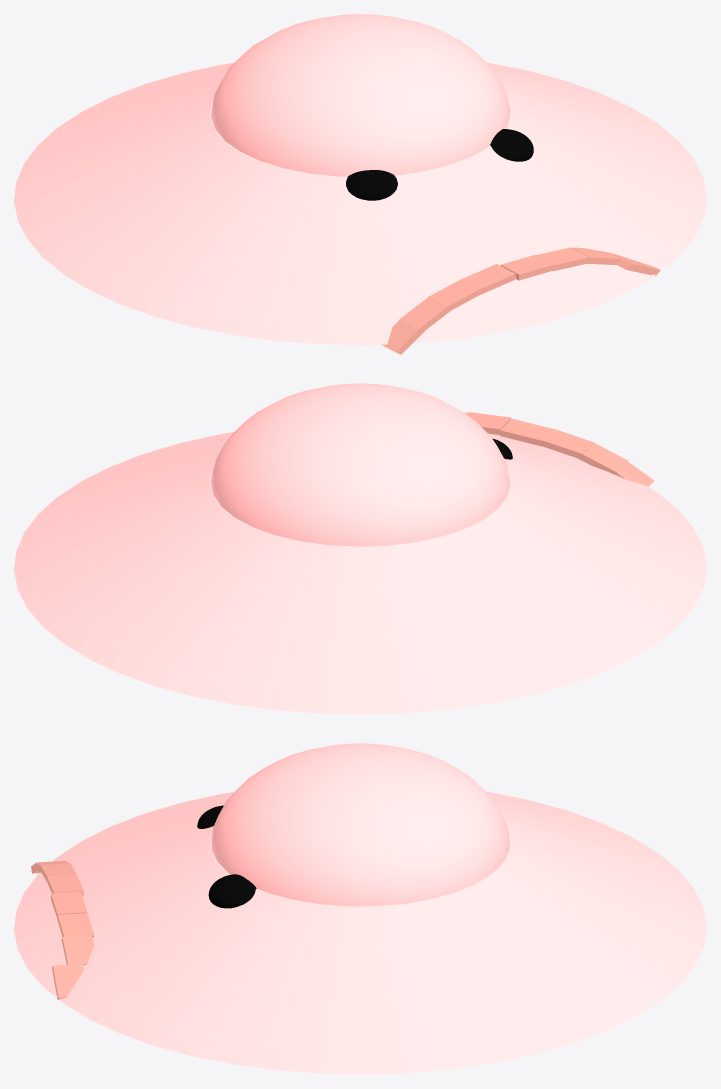
3 renders of one model, top to bottom at view 1: azimuth 30°, elevation 25°; view 2: azimuth 150°, elevation 25°; view 3: azimuth 270°, elevation 25°, orthographic.
Parts seen in each view (by area): view 1: Cylinder, Sphere (×3), Box (×6); view 2: Cylinder, Sphere, Box (×4); view 3: Cylinder, Sphere (×2), Box (×5).
Part boxes in pixels (x1=…): Cylinder: x1=14, y1=62, x2=706, y2=345; Sphere (×3): x1=211, y1=14, x2=533, y2=200; Box (×6): x1=381, y1=247, x2=588, y2=354; Cylinder: x1=14, y1=432, x2=706, y2=714; Sphere: x1=211, y1=383, x2=509, y2=546; Box (×4): x1=467, y1=412, x2=628, y2=474; Cylinder: x1=14, y1=791, x2=706, y2=1074; Sphere (×2): x1=208, y1=743, x2=509, y2=908; Box (×5): x1=47, y1=875, x2=94, y2=999.
Size of the model in its own units: 4.6 by 1.24 by 4.6.
